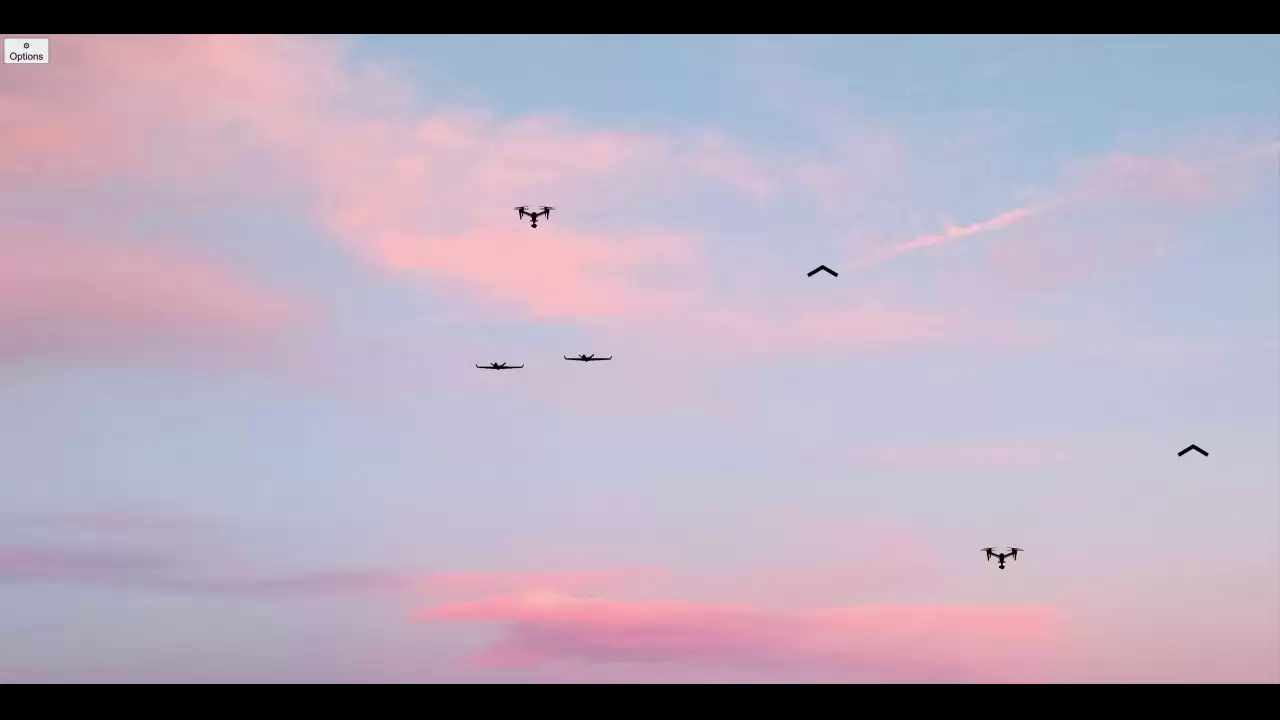Bird: (791, 253, 856, 290), (1160, 432, 1224, 467)
Drone: (464, 347, 537, 380), (557, 343, 621, 376)
Quadcopter: (972, 534, 1035, 574), (504, 195, 566, 234)
